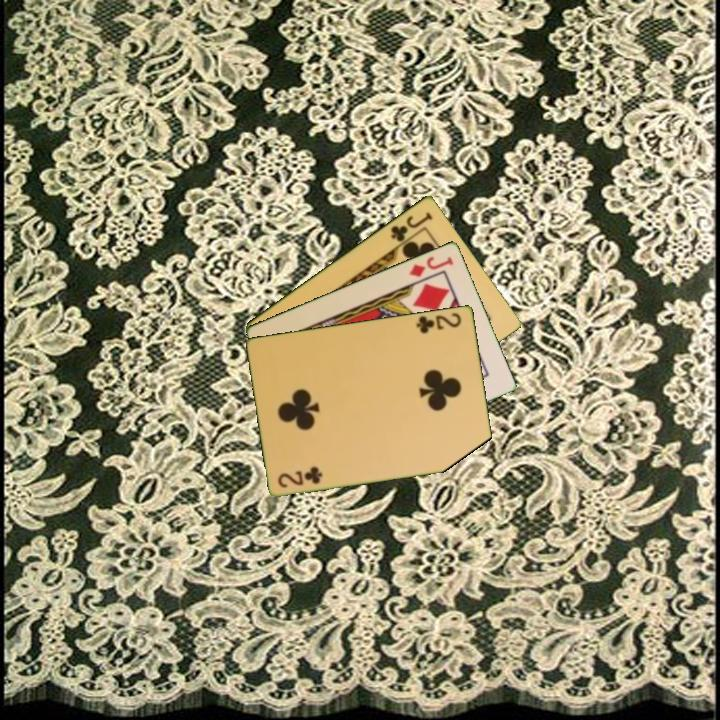2c: (413, 309, 464, 336), (275, 464, 325, 490)
Jc: (387, 208, 435, 244)
Jd: (406, 252, 457, 280)
